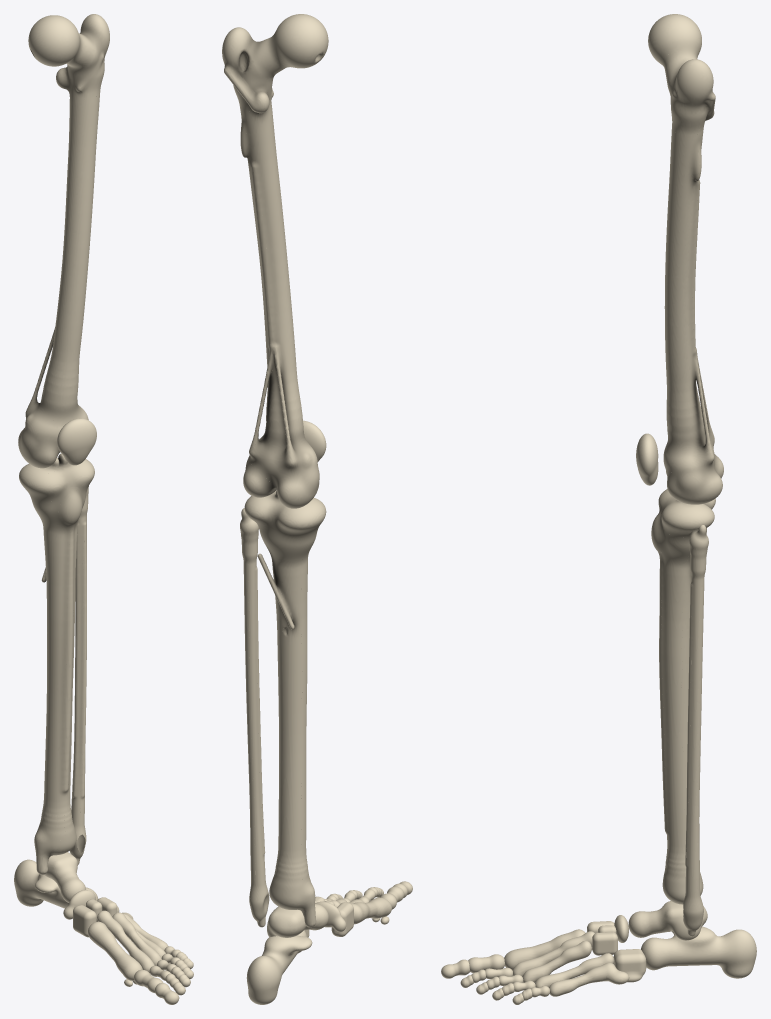
The model's file is pierna.glb.
3 views of the same model, side by side, from view 1: azimuth 30°, elevation 25°; view 2: azimuth 150°, elevation 25°; view 3: azimuth 270°, elevation 25° (orthographic). The views are drawn at different scales.
Visible parts, largest first — view 1: femur_L_shaft, tibia_L_medial_surface, femur_L_head, femur_L_neck, fibula_L_medial_surface, tibia_L_anterior_crest, calcaneus_L, patella_L, tibia_L_medial_condyle, metatarsal_1_L, talus_L, tibia_L_lateral_surface (+14 smaller); view 2: femur_L_shaft, tibia_L_posterior_surface, fibula_L_medial_surface, calcaneus_L, femur_L_head, tibia_L_medial_surface, fibula_L_lateral_surface, femur_L_greater_trochanter, tibia_L_medial_condyle, femur_L_neck, talus_L, femur_L_linea_aspera (+10 smaller); view 3: femur_L_shaft, tibia_L_lateral_surface, fibula_L_lateral_surface, calcaneus_L, femur_L_head, femur_L_greater_trochanter, talus_L, tibia_L_posterior_surface, femur_L_neck, tibia_L_lateral_condyle, metatarsal_5_L, femur_L_lateral_condyle (+8 smaller).
Part boxes in pixels (x1=…): femur_L_shaft: x1=23, y1=93, x2=99, y2=444; tibia_L_medial_surface: x1=30, y1=496, x2=70, y2=840; femur_L_head: x1=28, y1=15, x2=80, y2=66; femur_L_neck: x1=66, y1=32, x2=104, y2=99; fibula_L_medial_surface: x1=71, y1=507, x2=83, y2=838; tibia_L_anterior_crest: x1=64, y1=529, x2=73, y2=791; calcaneus_L: x1=14, y1=859, x2=98, y2=908; patella_L: x1=57, y1=418, x2=96, y2=465; tibia_L_medial_condyle: x1=19, y1=464, x2=70, y2=502; metatarsal_1_L: x1=88, y1=921, x2=142, y2=980; talus_L: x1=44, y1=852, x2=85, y2=902; tibia_L_lateral_surface: x1=64, y1=491, x2=86, y2=839; femur_L_shaft: x1=240, y1=106, x2=318, y2=487; tibia_L_posterior_surface: x1=258, y1=525, x2=309, y2=891; fibula_L_medial_surface: x1=246, y1=537, x2=267, y2=899; calcaneus_L: x1=246, y1=930, x2=312, y2=1004; femur_L_head: x1=272, y1=14, x2=328, y2=68; tibia_L_medial_surface: x1=301, y1=529, x2=317, y2=887; fibula_L_lateral_surface: x1=241, y1=537, x2=256, y2=899; femur_L_greater_trochanter: x1=222, y1=27, x2=270, y2=92; tibia_L_medial_condyle: x1=273, y1=498, x2=326, y2=536; femur_L_neck: x1=235, y1=36, x2=289, y2=112; talus_L: x1=267, y1=904, x2=328, y2=937; femur_L_linea_aspera: x1=251, y1=165, x2=272, y2=345; femur_L_shaft: x1=664, y1=129, x2=714, y2=480; tibia_L_lateral_surface: x1=658, y1=530, x2=689, y2=886; fibula_L_lateral_surface: x1=683, y1=553, x2=706, y2=914; calcaneus_L: x1=641, y1=926, x2=756, y2=978; femur_L_head: x1=648, y1=14, x2=701, y2=64; femur_L_greater_trochanter: x1=674, y1=59, x2=713, y2=121; talus_L: x1=628, y1=901, x2=707, y2=940; tibia_L_posterior_surface: x1=681, y1=528, x2=706, y2=880; femur_L_neck: x1=662, y1=49, x2=709, y2=134; tibia_L_lateral_condyle: x1=659, y1=499, x2=714, y2=537; metatarsal_5_L: x1=549, y1=962, x2=629, y2=996; femur_L_lateral_condyle: x1=670, y1=468, x2=722, y2=504.
Size of the model in its own units: 0.0926 by 0.907 by 0.2708.
